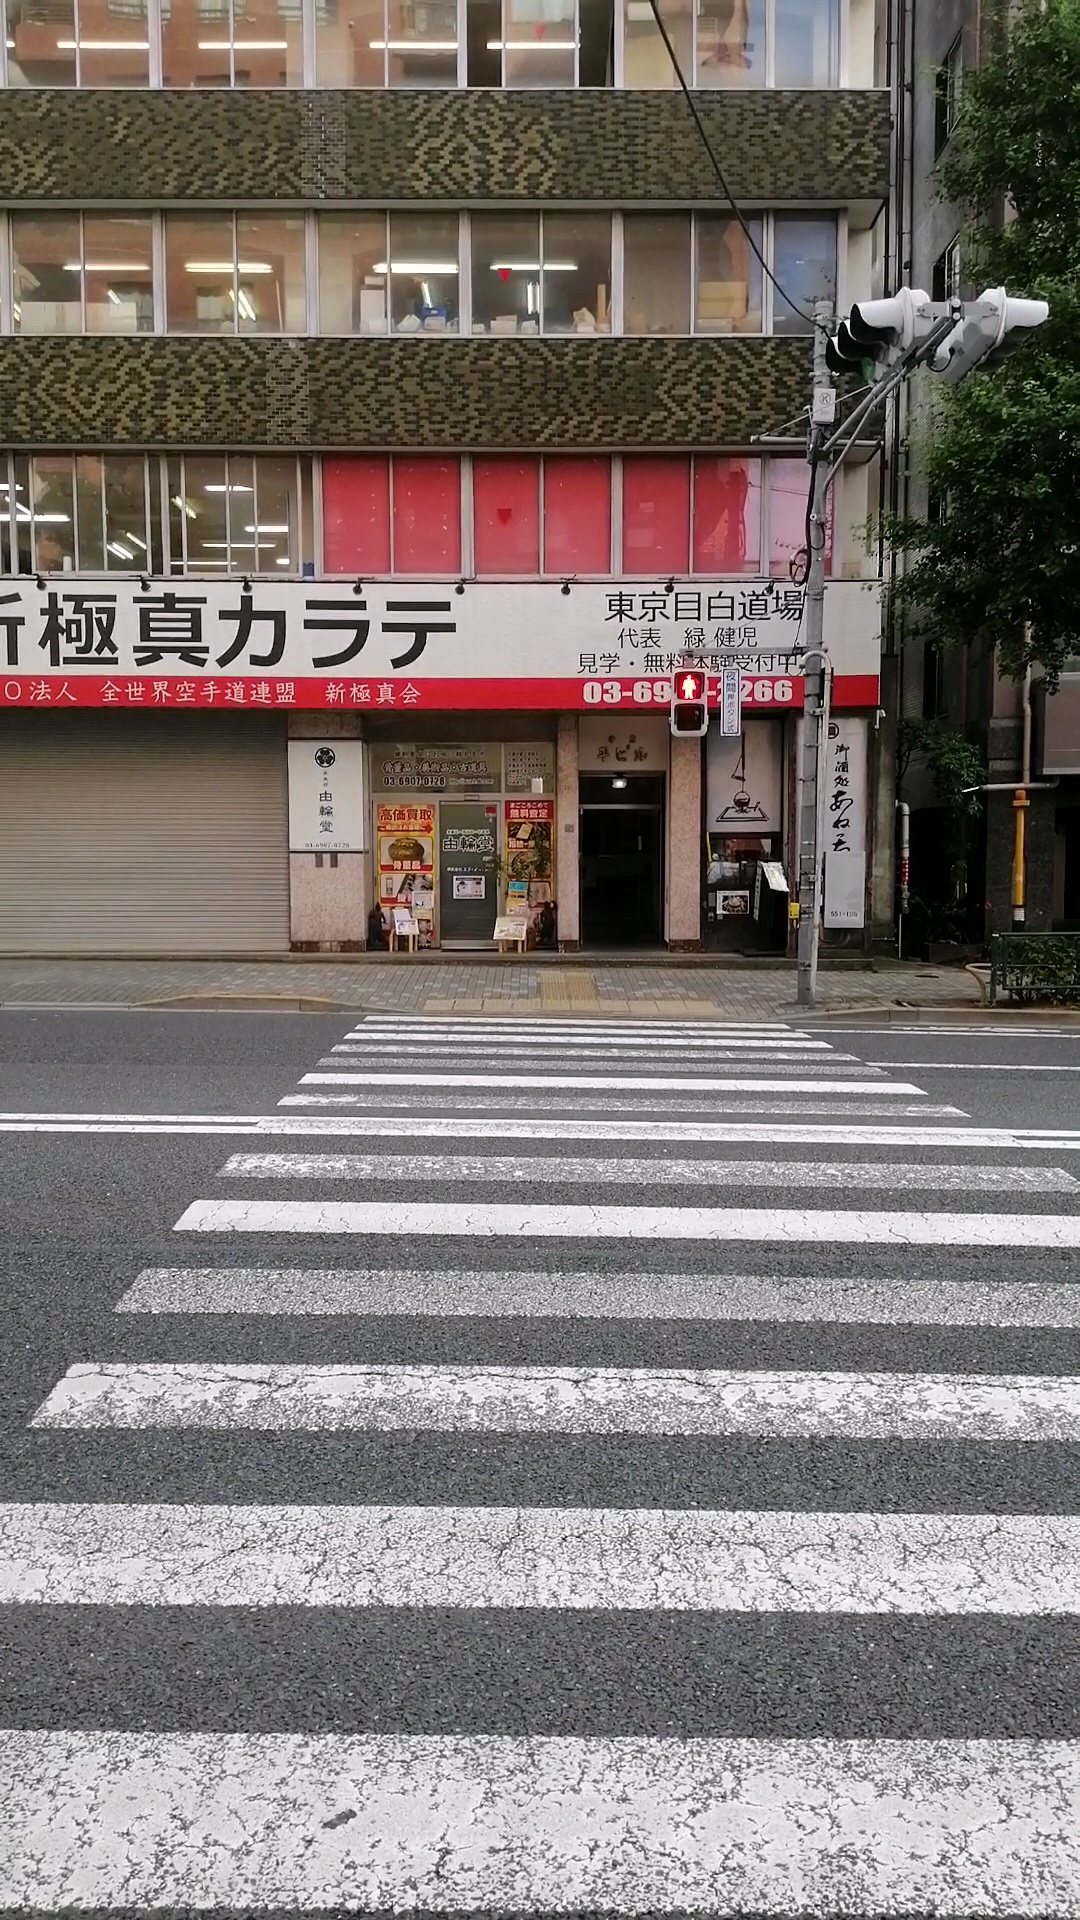red: (671, 669, 705, 735)
